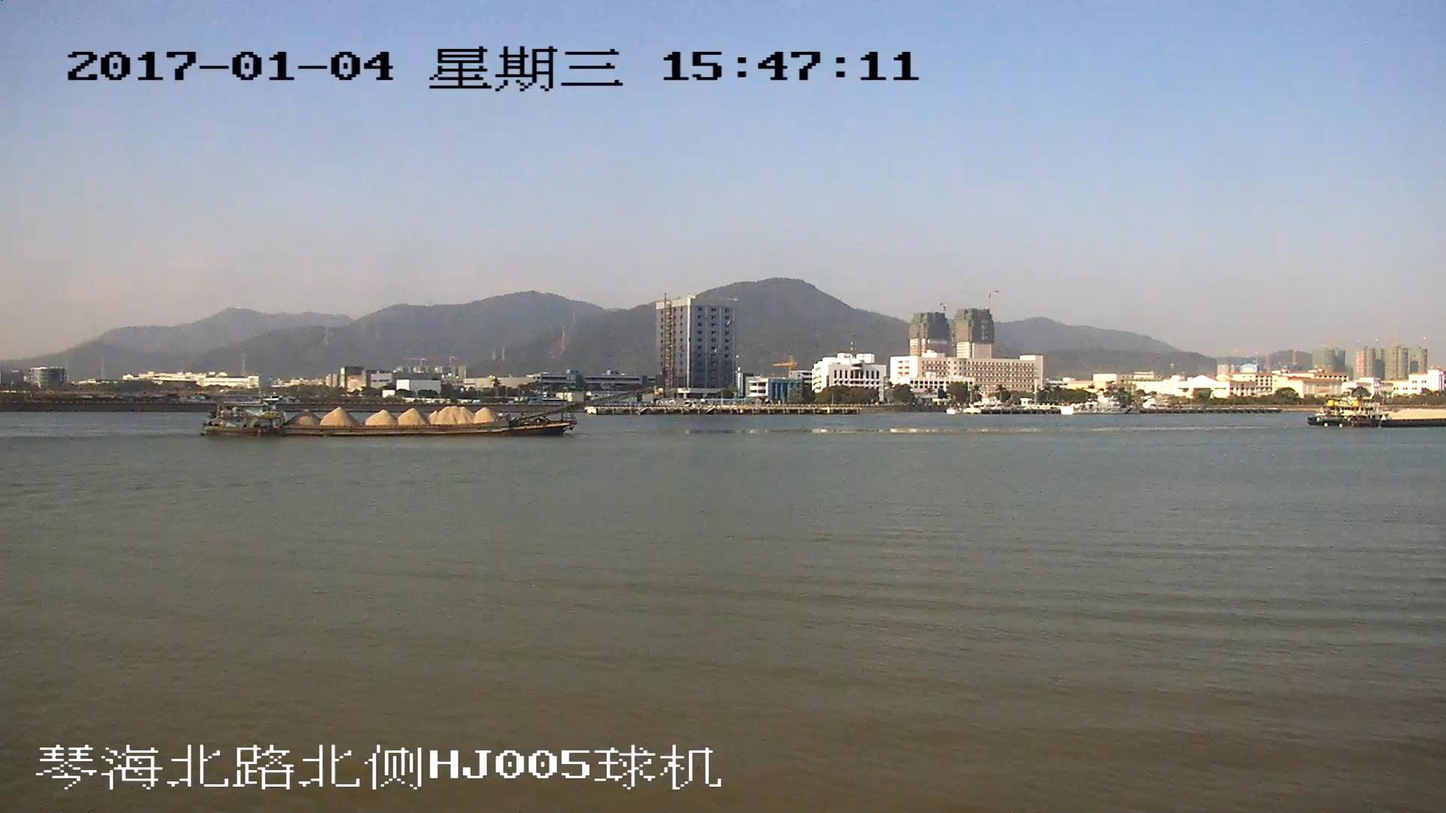ore carrier: (206, 387, 645, 438), (1313, 397, 1445, 426)
